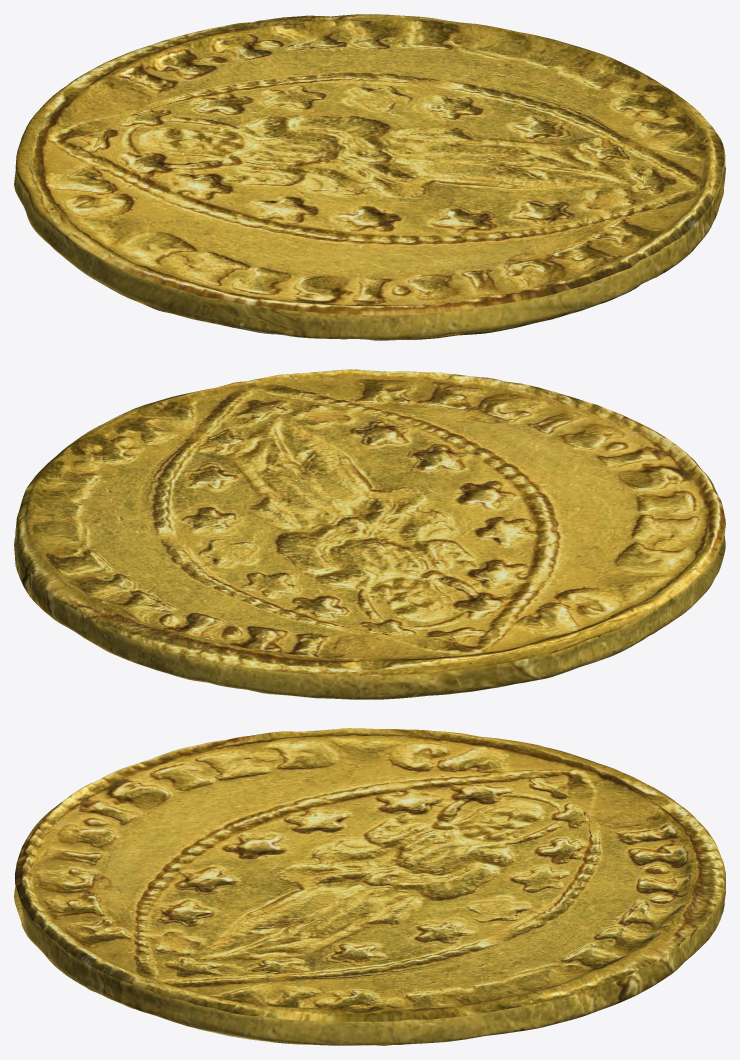
File: bronzeCoin.fbx
The picture shows the model from 3 angles, top to bottom: view 1: azimuth 30°, elevation 25°; view 2: azimuth 150°, elevation 25°; view 3: azimuth 270°, elevation 25°; orthographic projection.
Parts seen in each view (by area): view 1: Coin Zecchino Venezia; view 2: Coin Zecchino Venezia; view 3: Coin Zecchino Venezia.
Part boxes in pixels (<box>): Coin Zecchino Venezia: <box>14,14,725,340</box>; Coin Zecchino Venezia: <box>14,369,725,699</box>; Coin Zecchino Venezia: <box>14,728,725,1045</box>.
Size of the model in its own units: 4.51 by 0.2595 by 4.64.
Materials: 1 (1 with a texture image).
